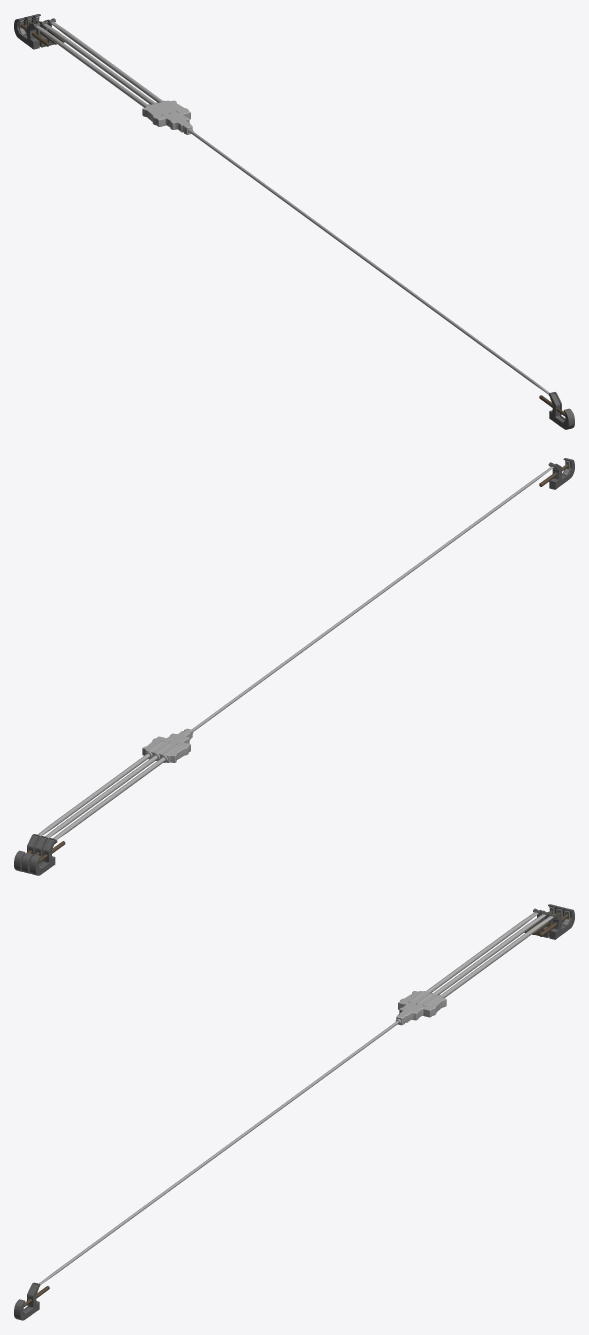
The model's file is Gancho_pulpo.fbx.
3 views of the same model, one above another, from view 1: azimuth 30°, elevation 25°; view 2: azimuth 150°, elevation 25°; view 3: azimuth 330°, elevation 25° (orthographic).
Parts seen in each view (by area): view 1: pCylinder11, pCube35, pCylinder16, pCylinder12, pCylinder15, pPlane1; view 2: pCylinder11, pCube35, pCylinder16, pCylinder12, pCylinder15, pPlane1; view 3: pCylinder11, pCube35, pCylinder15, pCylinder16, pCylinder12, pPlane1.
Boxes of the visible parts, <box> form: pCylinder11: <box>188,128,549,394</box>; pCube35: <box>142,100,192,134</box>; pCylinder16: <box>35,25,149,107</box>; pCylinder12: <box>43,23,156,104</box>; pCylinder15: <box>50,22,164,102</box>; pPlane1: <box>548,392,574,429</box>; pCylinder11: <box>191,466,553,733</box>; pCube35: <box>142,728,192,762</box>; pCylinder16: <box>53,755,167,840</box>; pCylinder12: <box>45,753,160,838</box>; pCylinder15: <box>38,751,152,835</box>; pPlane1: <box>29,837,55,875</box>; pCylinder11: <box>39,1019,401,1284</box>; pCube35: <box>396,991,446,1025</box>; pCylinder15: <box>439,916,553,997</box>; pCylinder16: <box>423,912,538,993</box>; pCylinder12: <box>432,914,546,994</box>; pPlane1: <box>14,1282,40,1320</box>.
Size of the model in its own units: 12.47 by 9.35 by 342.
